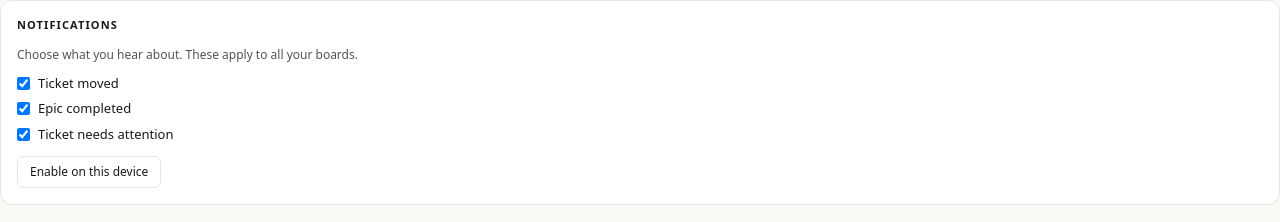
Scenario: NotificationsSection › asks permission only on a tap, then subscribes and reads Enabled
Click the button "Enable on this device".
click(89, 172)  # box [17, 156, 161, 188]
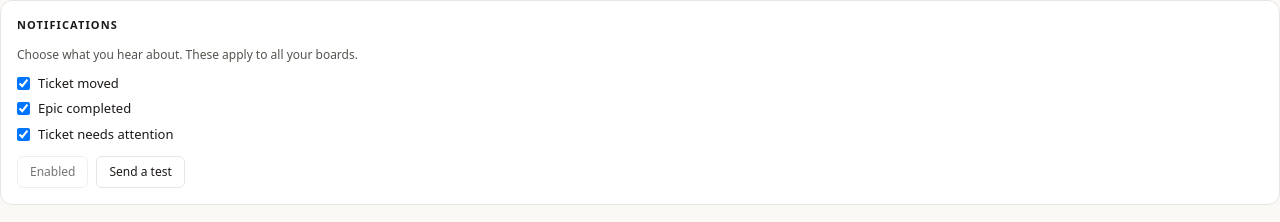
Now the button "Enabled" is disabled, box [17, 156, 88, 188]
